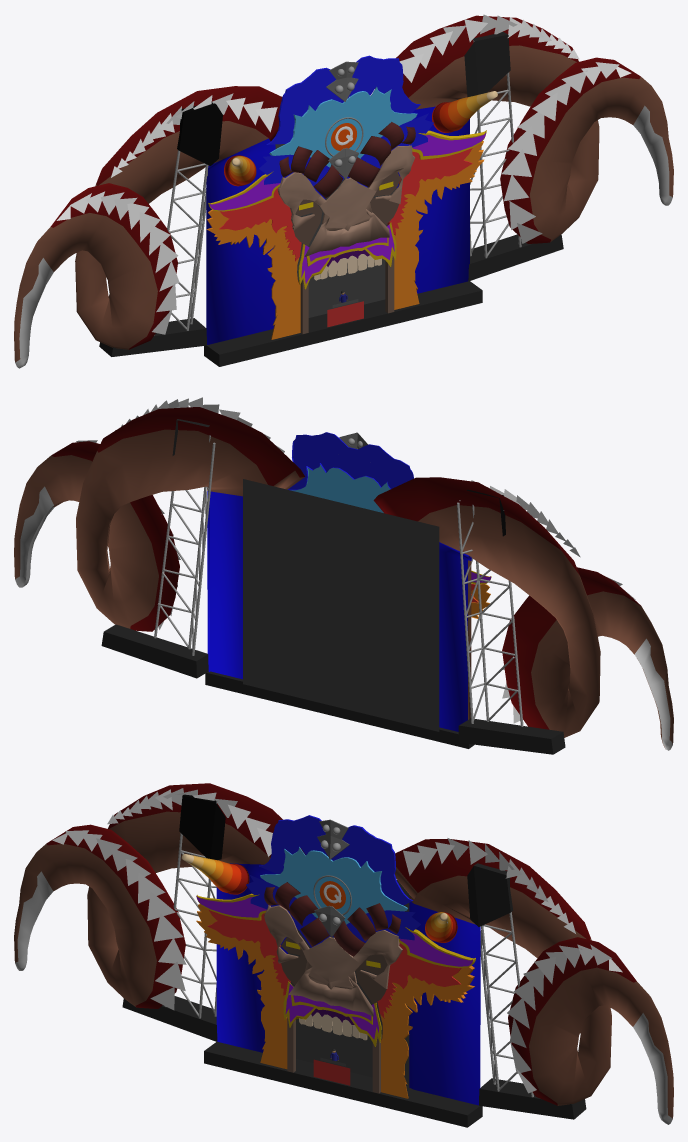
Rendered from podium41.fbx.
3 views of the same model, one above another, from view 1: azimuth 30°, elevation 25°; view 2: azimuth 150°, elevation 25°; view 3: azimuth 330°, elevation 25° (orthographic).
Parts seen in each view (by area): view 1: Grote_hoorn_links, Grote_hoorn_rechts, Linker_oor, Rechter_oor, Stijger_rechts, Podium, Stijger_links, Licht_blauwe_voorhoofd, Gezicht_om_ogen, Donker_blauwe_hoofd, Arrows_rechts, Wenkbrauwen (+14 smaller); view 2: Achtergrond_Dj, Grote_hoorn_rechts, Grote_hoorn_links, Stijger_links, Stijger_rechts, Donker_blauwe_hoofd, Podium, Licht_blauwe_voorhoofd, Arrows_links.002, Arrows_links.001, Linker_oor; view 3: Grote_hoorn_rechts, Grote_hoorn_links, Rechter_oor, Linker_oor, Stijger_rechts, Podium, Stijger_links, Licht_blauwe_voorhoofd, Gezicht_om_ogen, Donker_blauwe_hoofd, Arrows_links, Achtergrond_Dj (+14 smaller).
Part boxes in pixels (x1,y1,x2,y2): Grote_hoorn_links: (14, 86, 282, 368); Grote_hoorn_rechts: (375, 15, 673, 293); Linker_oor: (206, 171, 301, 339); Rechter_oor: (387, 130, 486, 309); Stijger_rechts: (464, 32, 563, 281); Podium: (204, 281, 482, 366); Stijger_links: (99, 102, 222, 356); Licht_blauwe_voorhoofd: (269, 86, 417, 167); Gezicht_om_ogen: (277, 145, 414, 230); Donker_blauwe_hoofd: (266, 55, 420, 144); Arrows_rechts: (501, 62, 631, 243); Wenkbrauwen: (279, 122, 415, 198); Achtergrond_Dj: (243, 479, 439, 731); Grote_hoorn_rechts: (14, 407, 304, 679); Grote_hoorn_links: (373, 477, 673, 750); Stijger_links: (457, 489, 565, 754); Stijger_rechts: (101, 419, 215, 678); Donker_blauwe_hoofd: (288, 432, 413, 490); Podium: (205, 671, 474, 748); Licht_blauwe_voorhoofd: (291, 465, 390, 512); Arrows_links.002: (115, 397, 284, 452); Arrows_links.001: (450, 478, 580, 557); Linker_oor: (471, 570, 491, 618); Grote_hoorn_rechts: (395, 839, 673, 1124); Grote_hoorn_links: (14, 783, 305, 1052); Rechter_oor: (377, 927, 475, 1098); Linker_oor: (196, 893, 290, 1069); Stijger_rechts: (467, 863, 586, 1119); Podium: (204, 1041, 482, 1127); Stijger_links: (122, 794, 225, 1041); Licht_blauwe_voorhoofd: (260, 847, 407, 924); Gezicht_om_ogen: (264, 905, 402, 989); Donker_blauwe_hoofd: (259, 815, 413, 905); Arrows_links: (52, 830, 186, 1010); Achtergrond_Dj: (288, 880, 410, 1085).
Bounding box in the file's own units: 673 × 273 × 78.28.
